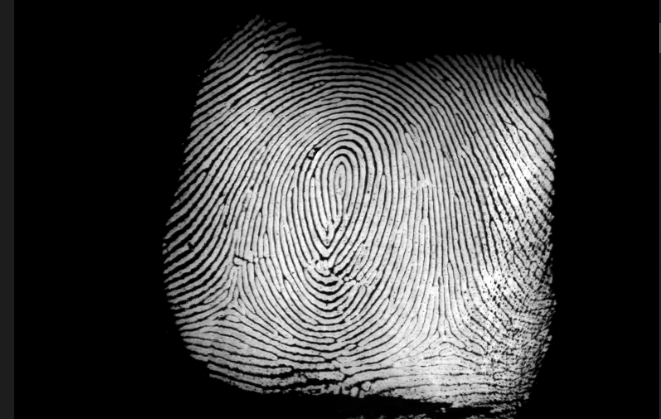nucelo: (325, 153, 353, 236)
verticilo: (432, 321, 465, 352), (220, 285, 245, 319)
